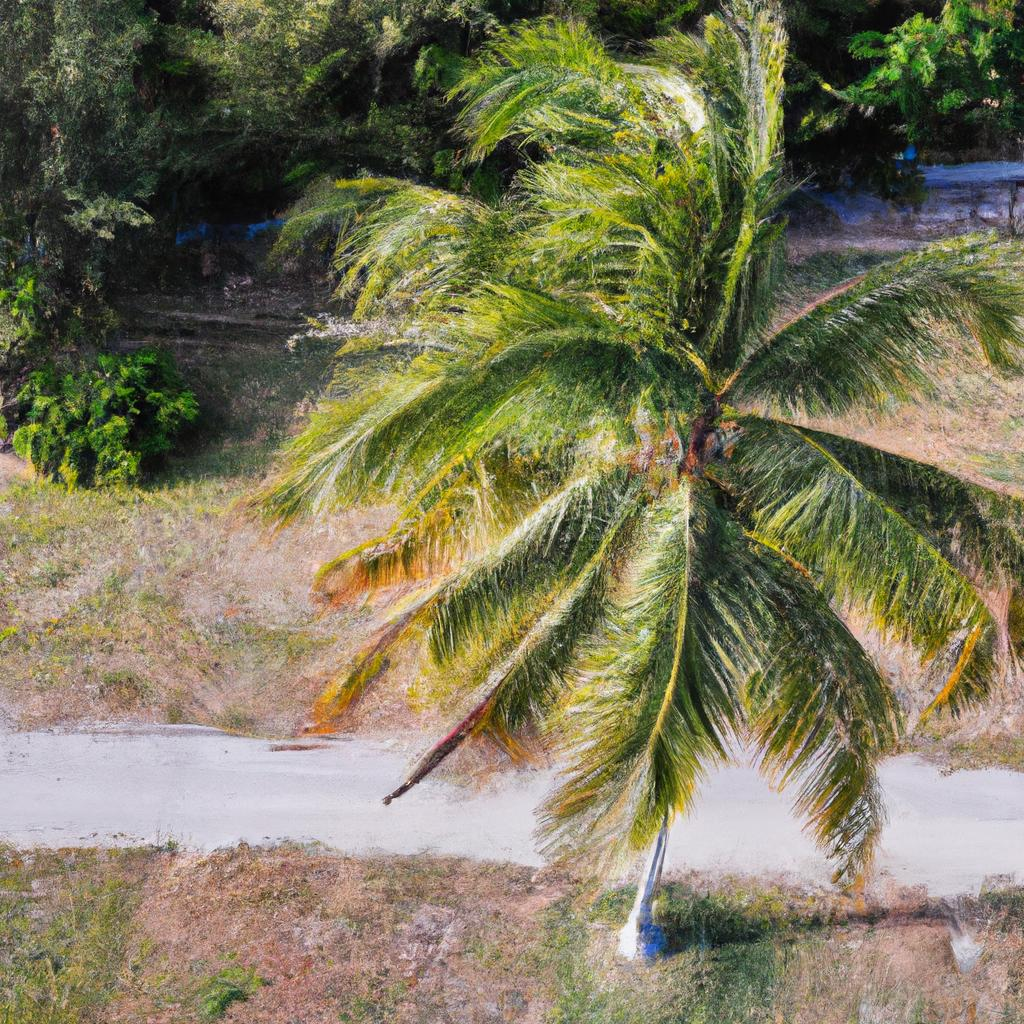coconut_tree: (216, 5, 1023, 894)
